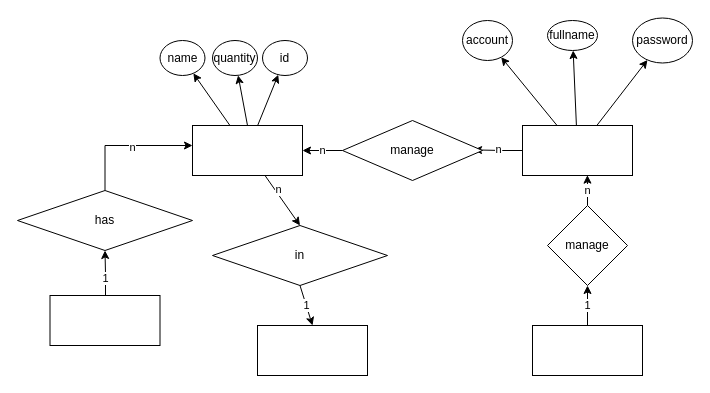
Image size: 710x393. Some labels were removed from this diagram. Here are the shapes that lost their labels. From the top down, the centre of each, then its label:
[247,150]: product
[577,150]: staff
[104,320]: inventory
[312,350]: category
[587,350]: admin
